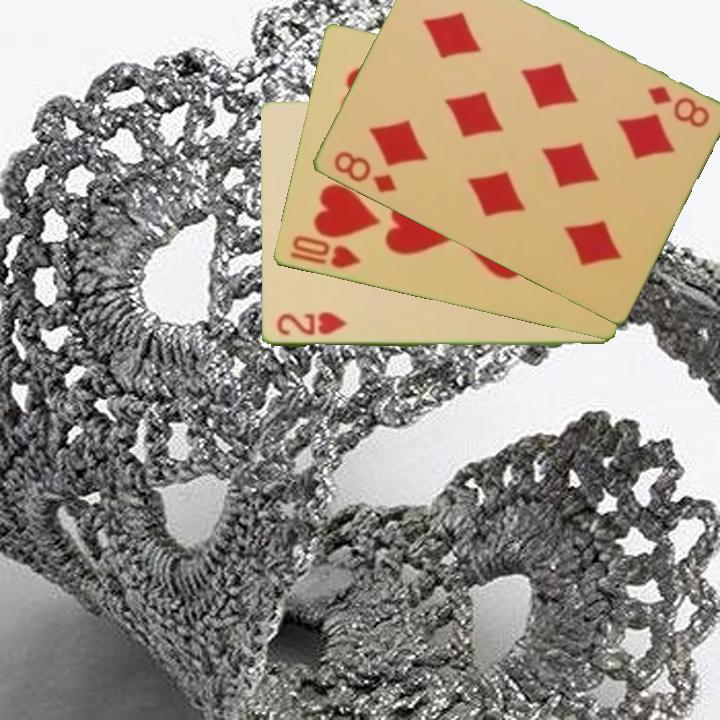10h: (286, 232, 363, 272)
2h: (273, 310, 350, 339)
8d: (329, 147, 400, 196), (643, 82, 712, 131)
